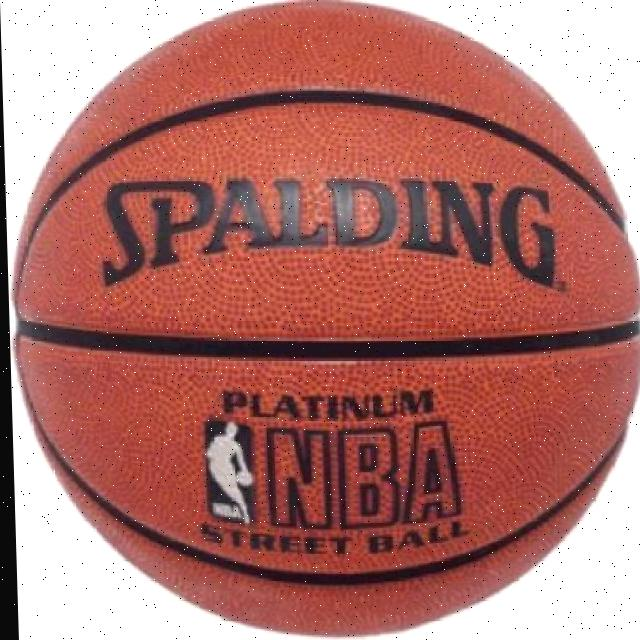Basketball: (5, 4, 640, 634)
